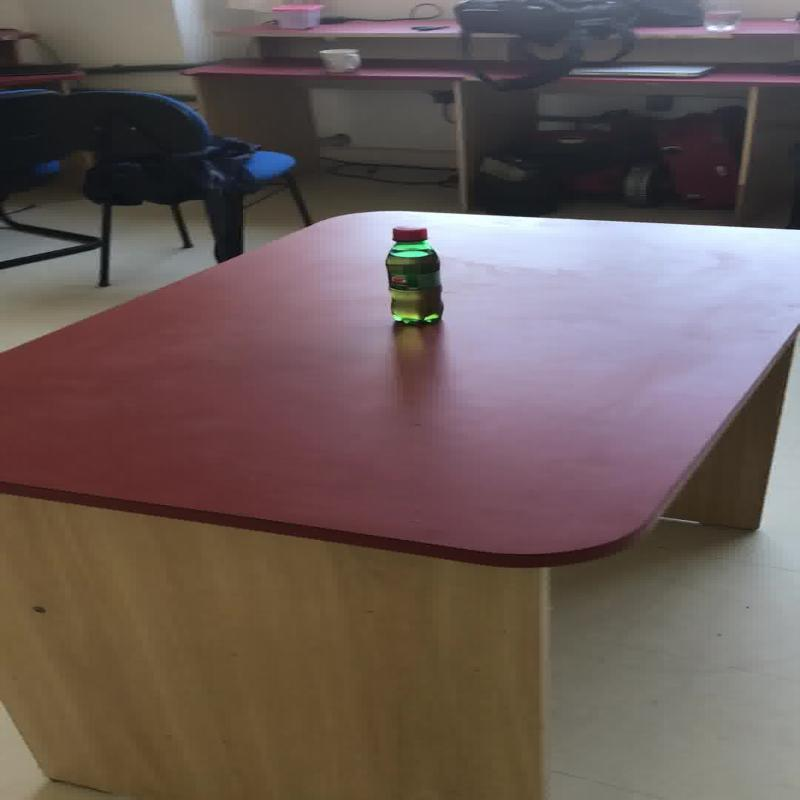guarana: (382, 224, 443, 324)
